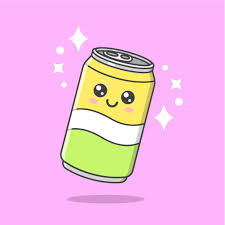can: (60, 47, 156, 183)
